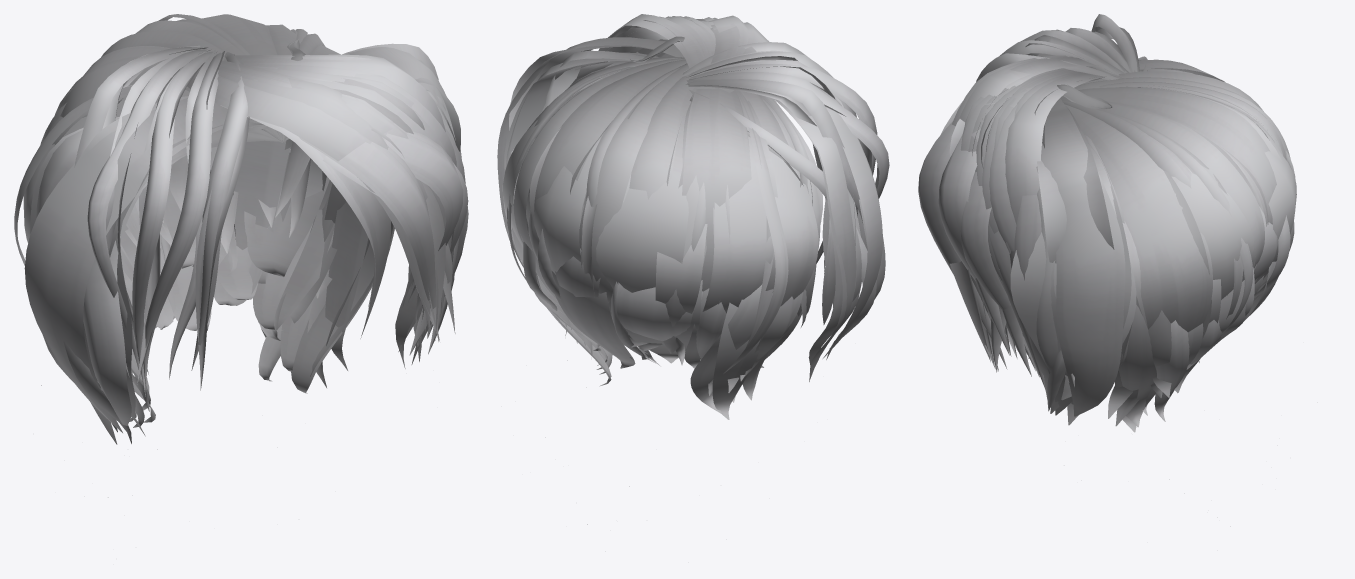
Rendered from vroid_hair_c11v4w.glb.
The picture shows the model from 3 angles, left to right: view 1: azimuth 30°, elevation 25°; view 2: azimuth 150°, elevation 25°; view 3: azimuth 270°, elevation 25°; orthographic projection. The views are drawn at different scales.
Visible parts, largest first — view 1: hair; view 2: hair; view 3: hair.
Part boxes in pixels (x1,y1,x2,y2): hair: (14,14,468,497); hair: (497,14,889,551); hair: (918,14,1317,526).
Bounding box in the file's own units: 0.2264 × 0.2761 × 0.2267.
1 material, 1 textured.
